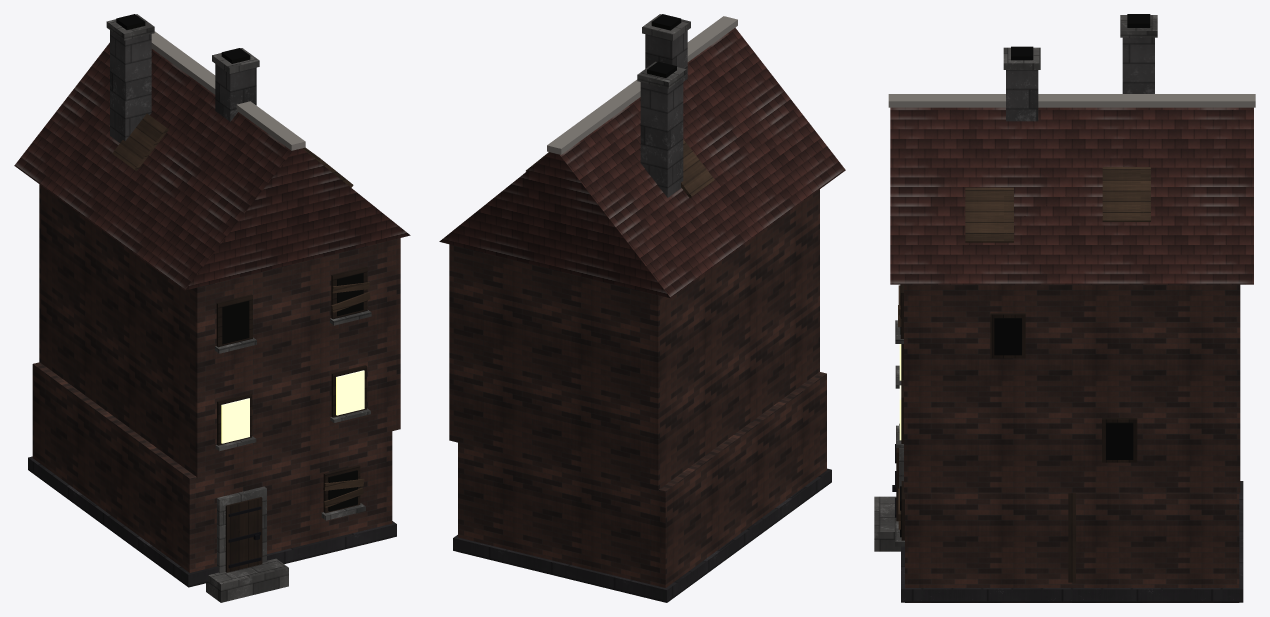
Rendered from CasaS11.gltf.
The picture shows the model from 3 angles, left to right: view 1: azimuth 30°, elevation 25°; view 2: azimuth 150°, elevation 25°; view 3: azimuth 270°, elevation 25°; orthographic projection. The views are drawn at different scales.
Visible parts, largest first — view 1: CasaS11; view 2: CasaS11; view 3: CasaS11.
Part boxes in pixels (x1,y1,x2,y2): CasaS11: (14,14,410,602); CasaS11: (439,14,845,602); CasaS11: (874,14,1255,602).
Size of the model in its own units: 6.86 by 13.3 by 8.92.
Materials: 11 (7 with a texture image).
